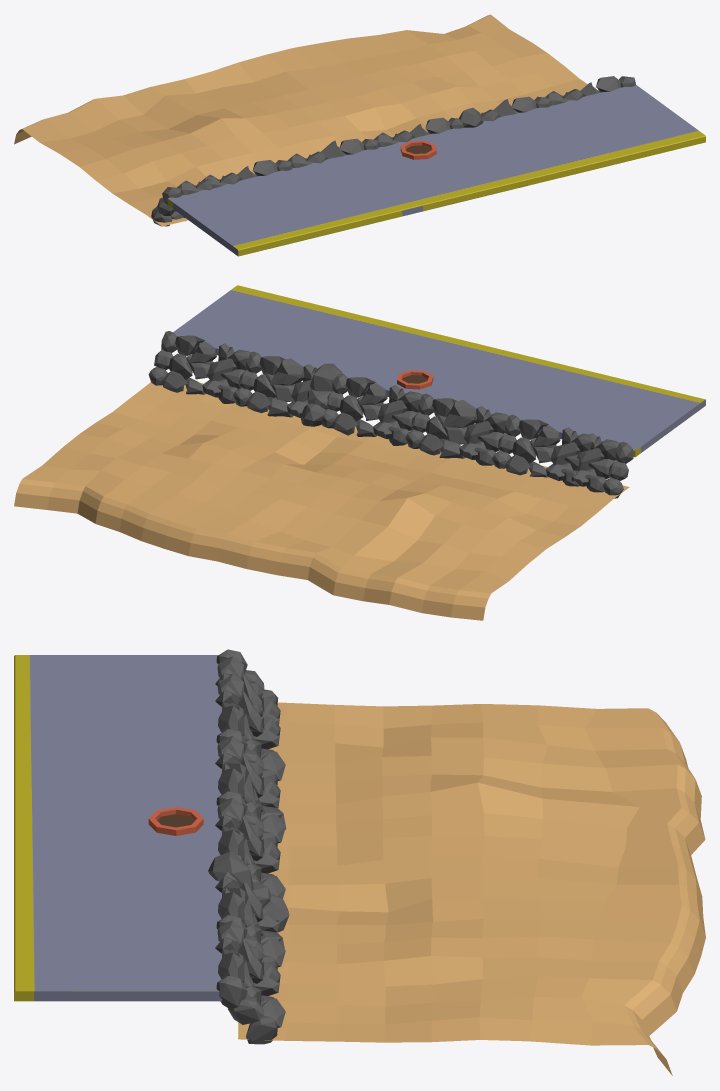
File: plage.fbx
3 renders of one model, top to bottom at view 1: azimuth 30°, elevation 25°; view 2: azimuth 150°, elevation 25°; view 3: azimuth 270°, elevation 25°, orthographic. The views are drawn at different scales.
Parts seen in each view (by area): view 1: plage; view 2: plage; view 3: plage.
Part boxes in pixels (x1,y1,x2,y2): plage: [14, 14, 705, 256]; plage: [14, 285, 705, 620]; plage: [14, 649, 705, 1075].
Size of the model in its own units: 14943 by 2203 by 12939.
